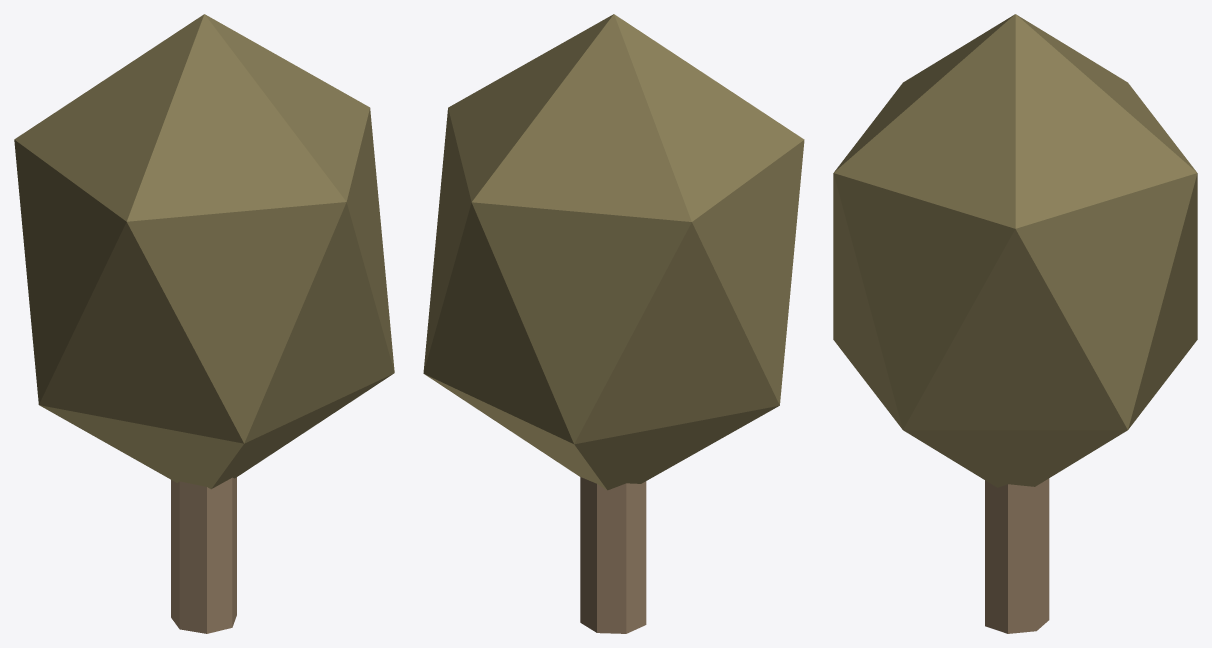
Rendered from POL_TREE_WITHERED_01.fbx.
3 views of the same model, side by side, from view 1: azimuth 30°, elevation 25°; view 2: azimuth 150°, elevation 25°; view 3: azimuth 270°, elevation 25° (orthographic).
Visible parts, largest first — view 1: POL_TREE_WITHERED_01; view 2: POL_TREE_WITHERED_01; view 3: POL_TREE_WITHERED_01.
Boxes of the visible parts, x1,y1,x2,y2 form: POL_TREE_WITHERED_01: (14,14,394,633); POL_TREE_WITHERED_01: (423,14,804,633); POL_TREE_WITHERED_01: (833,14,1197,633).
Size of the model in its own units: 268 by 469 by 255.
